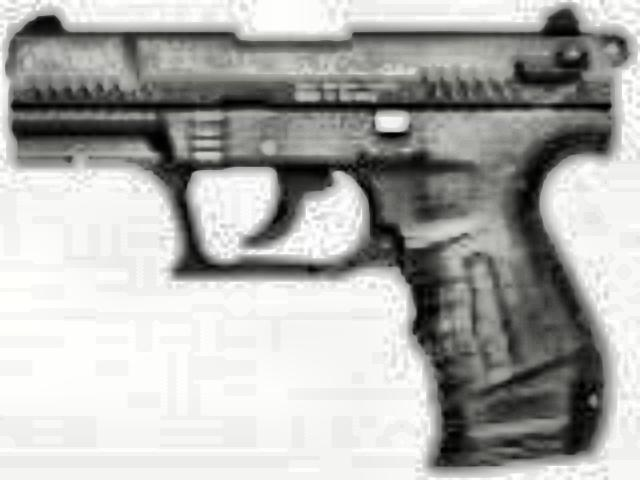pistol: (8, 8, 624, 472)
